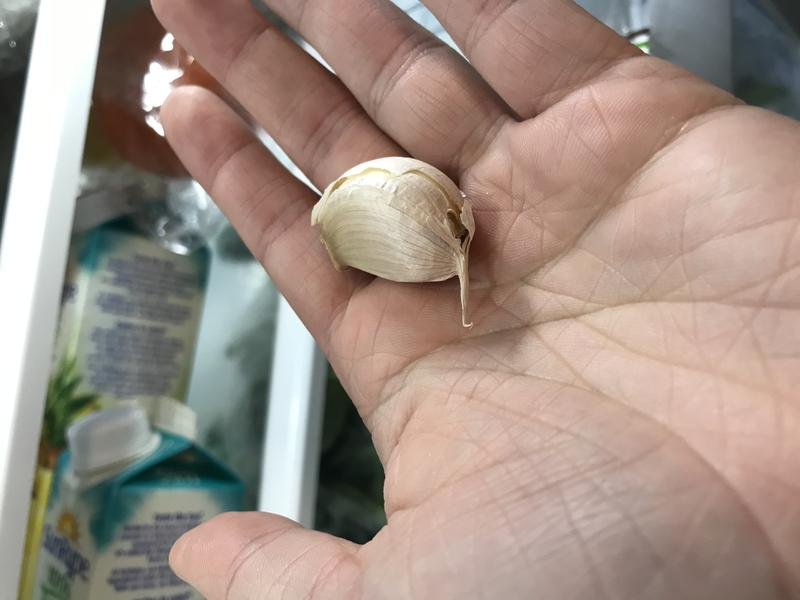garlic: (305, 153, 483, 308)
